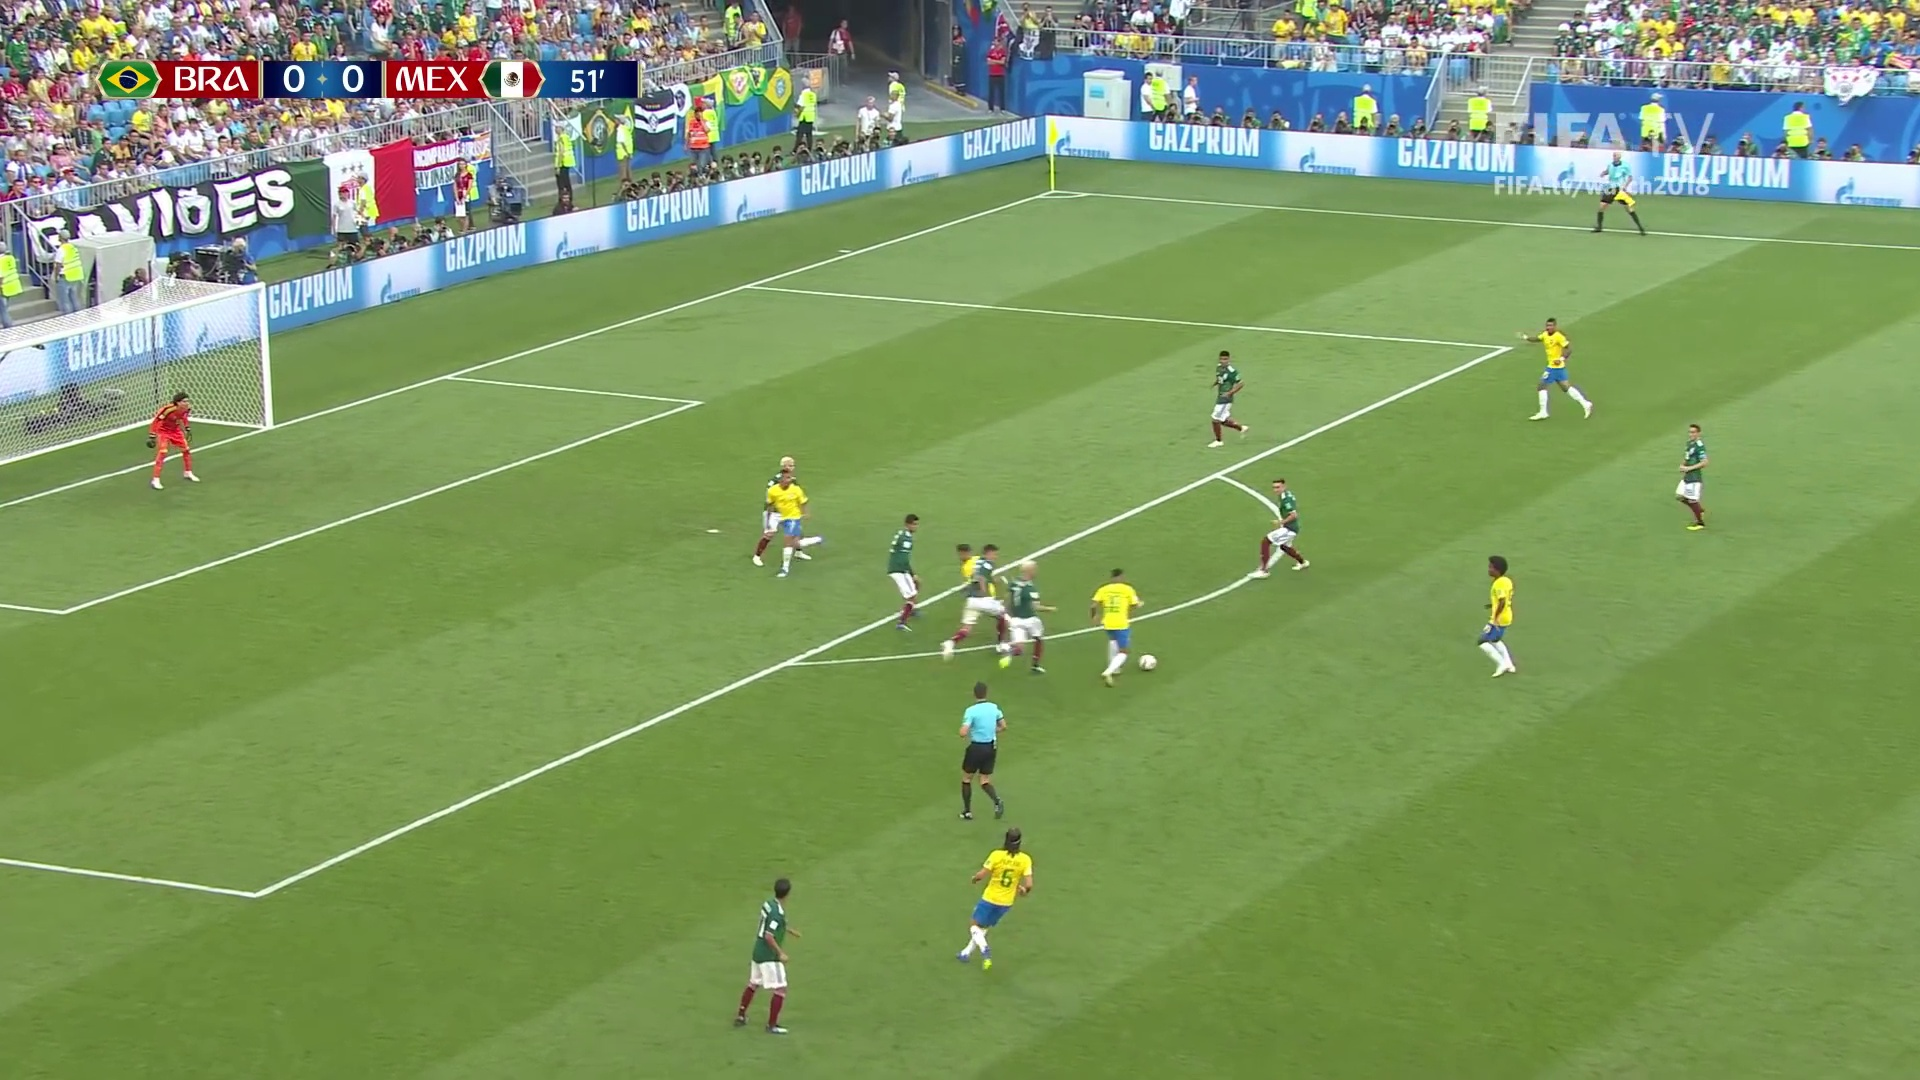ball: (1140, 654, 1157, 668)
person: (961, 829, 1031, 963), (736, 879, 795, 1032), (1516, 315, 1594, 418), (1091, 567, 1140, 684), (1001, 557, 1049, 674), (1256, 480, 1308, 580), (962, 548, 1005, 660), (885, 514, 925, 632), (148, 392, 197, 487), (1482, 556, 1519, 679), (758, 457, 799, 560), (1206, 351, 1247, 449), (1675, 426, 1707, 529), (777, 474, 804, 578), (957, 542, 985, 581)
